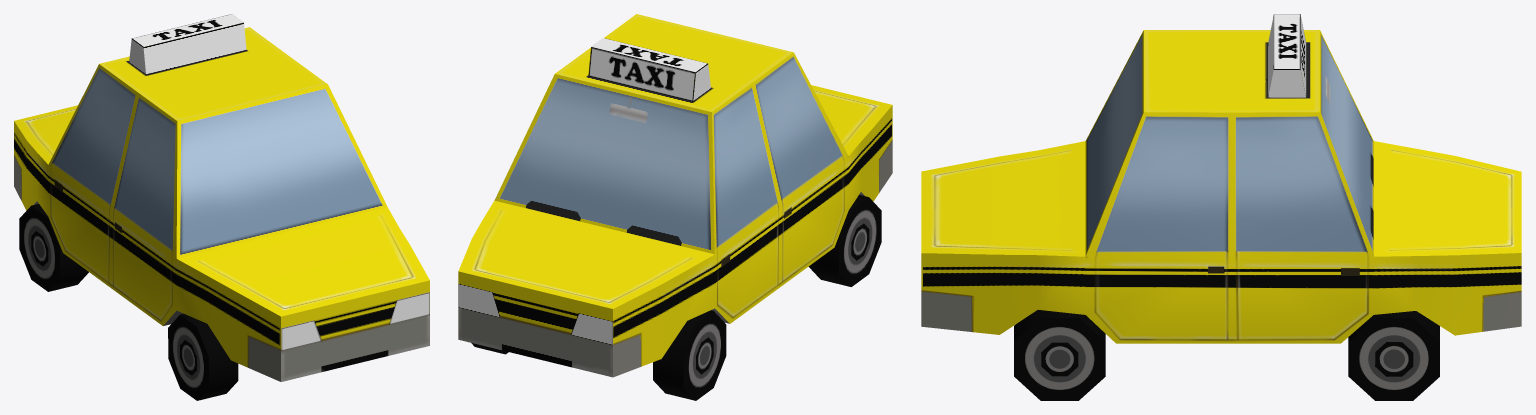
Rendered from car_01.fbx.
3 renders of one model, left to right at view 1: azimuth 30°, elevation 25°; view 2: azimuth 150°, elevation 25°; view 3: azimuth 270°, elevation 25°, orthographic. The views are drawn at different scales.
Parts seen in each view (by area): view 1: Body, WheelFR.2_2, WheelRR.2_1, DiscBrakeRR, DiscBrakeFR; view 2: Body, WheelRR.2_1, WheelFR.2_2, DiscBrakeFR, DiscBrakeRR; view 3: Body, WheelFL.2_1, WheelRL.2_1, DiscBrakeRL, DiscBrakeFL.
Boxes of the visible parts, x1,y1,x2,y2 form: Body: [14, 14, 429, 381]; WheelFR.2_2: [168, 313, 238, 400]; WheelRR.2_1: [19, 204, 88, 291]; DiscBrakeRR: [31, 231, 48, 266]; DiscBrakeFR: [180, 340, 196, 375]; Body: [458, 14, 892, 377]; WheelRR.2_1: [653, 310, 726, 400]; WheelFR.2_2: [808, 194, 881, 286]; DiscBrakeFR: [851, 223, 869, 260]; DiscBrakeRR: [696, 337, 713, 374]; Body: [921, 14, 1521, 343]; WheelFL.2_1: [1014, 310, 1105, 400]; WheelRL.2_1: [1348, 311, 1439, 400]; DiscBrakeRL: [1375, 342, 1413, 376]; DiscBrakeFL: [1041, 342, 1078, 376].
Size of what is drawn, in the model's own units: 1.84 by 2.2 by 4.02.
